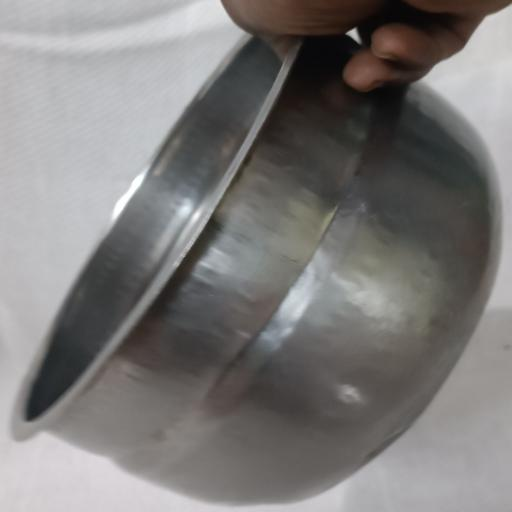vessel: (13, 37, 500, 503)
